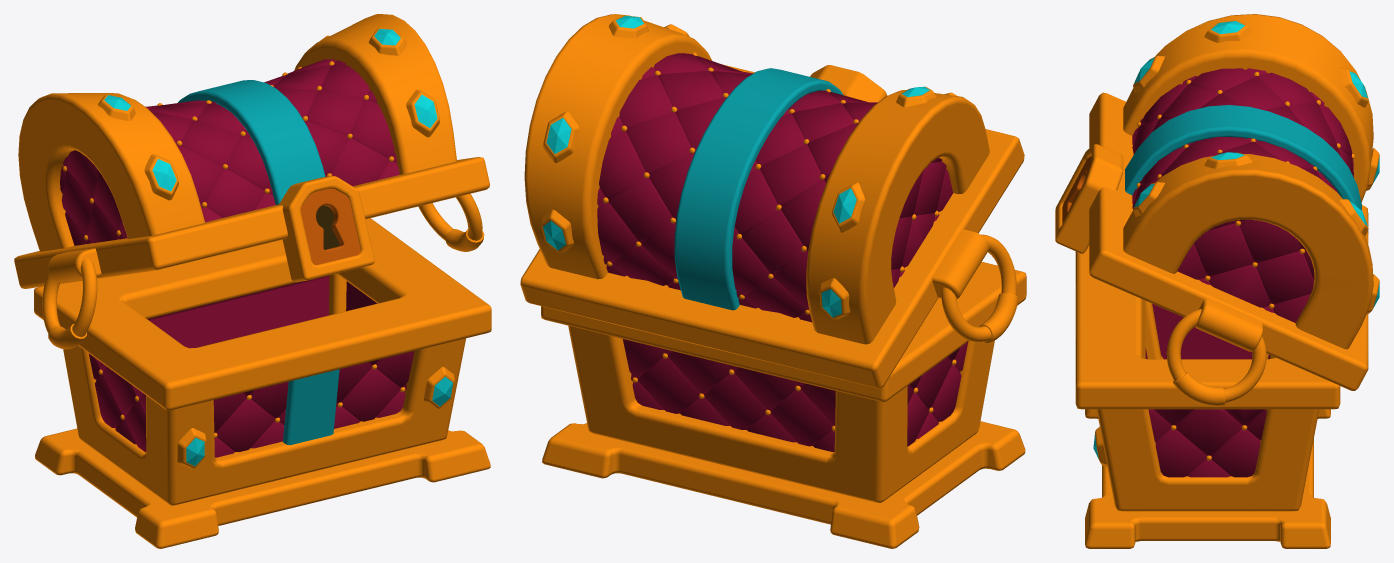
Rendered from Chest.fbx.
The picture shows the model from 3 angles, left to right: view 1: azimuth 30°, elevation 25°; view 2: azimuth 150°, elevation 25°; view 3: azimuth 270°, elevation 25°; orthographic projection. The views are drawn at different scales.
Parts seen in each view (by area): view 1: Plane.004, Circle.014; view 2: Circle.014, Plane.004; view 3: Circle.014, Plane.004.
Boxes of the visible parts, x1,y1,x2,y2 form: Plane.004: (34,218,491,548); Circle.014: (14,14,489,349); Circle.014: (520,14,1024,388); Plane.004: (541,262,1026,548); Circle.014: (1055,14,1379,406); Plane.004: (1075,245,1340,548).
Size of the model in its own units: 359 by 322 by 247.
